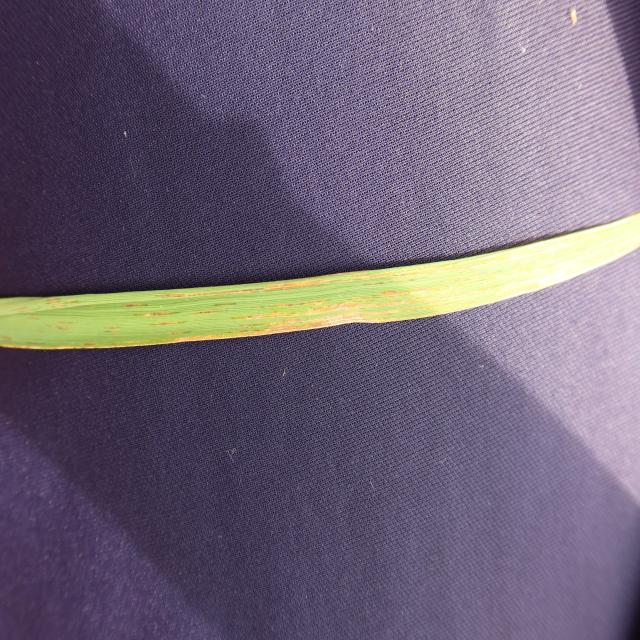Dom soc vi khuan: (228, 301, 460, 340), (157, 271, 423, 301), (234, 299, 429, 320), (352, 288, 427, 299), (253, 300, 329, 309), (171, 334, 224, 343), (134, 310, 182, 318), (150, 321, 185, 328), (47, 324, 69, 332), (123, 302, 148, 309), (393, 278, 426, 283), (193, 310, 217, 315), (214, 302, 238, 307), (168, 331, 191, 336), (361, 281, 384, 285), (82, 342, 97, 347), (102, 326, 119, 329), (105, 330, 120, 333)
